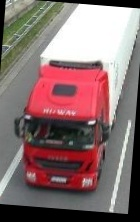truck: (9, 0, 140, 196)
